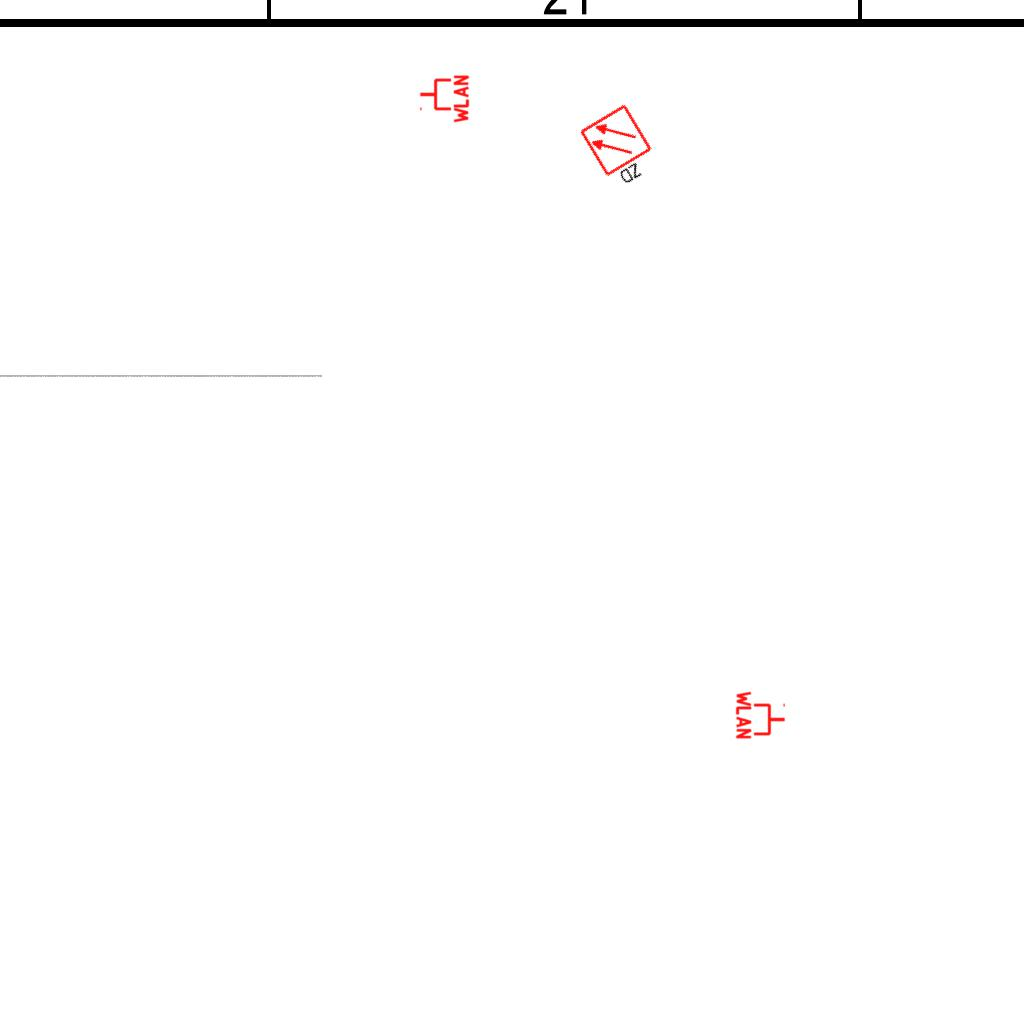WLAN: (735, 689, 787, 741), (418, 73, 470, 125)
ZD_Melder_in_Zwischendecke_mit_Revisionsoeffnung_mind_40_x_40_cm: (578, 101, 665, 195)
